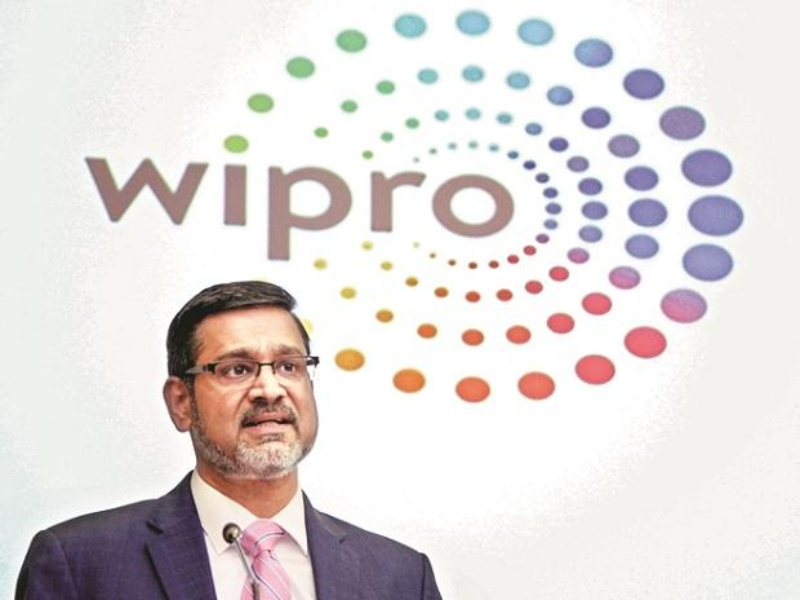wipro: (59, 4, 758, 404)
